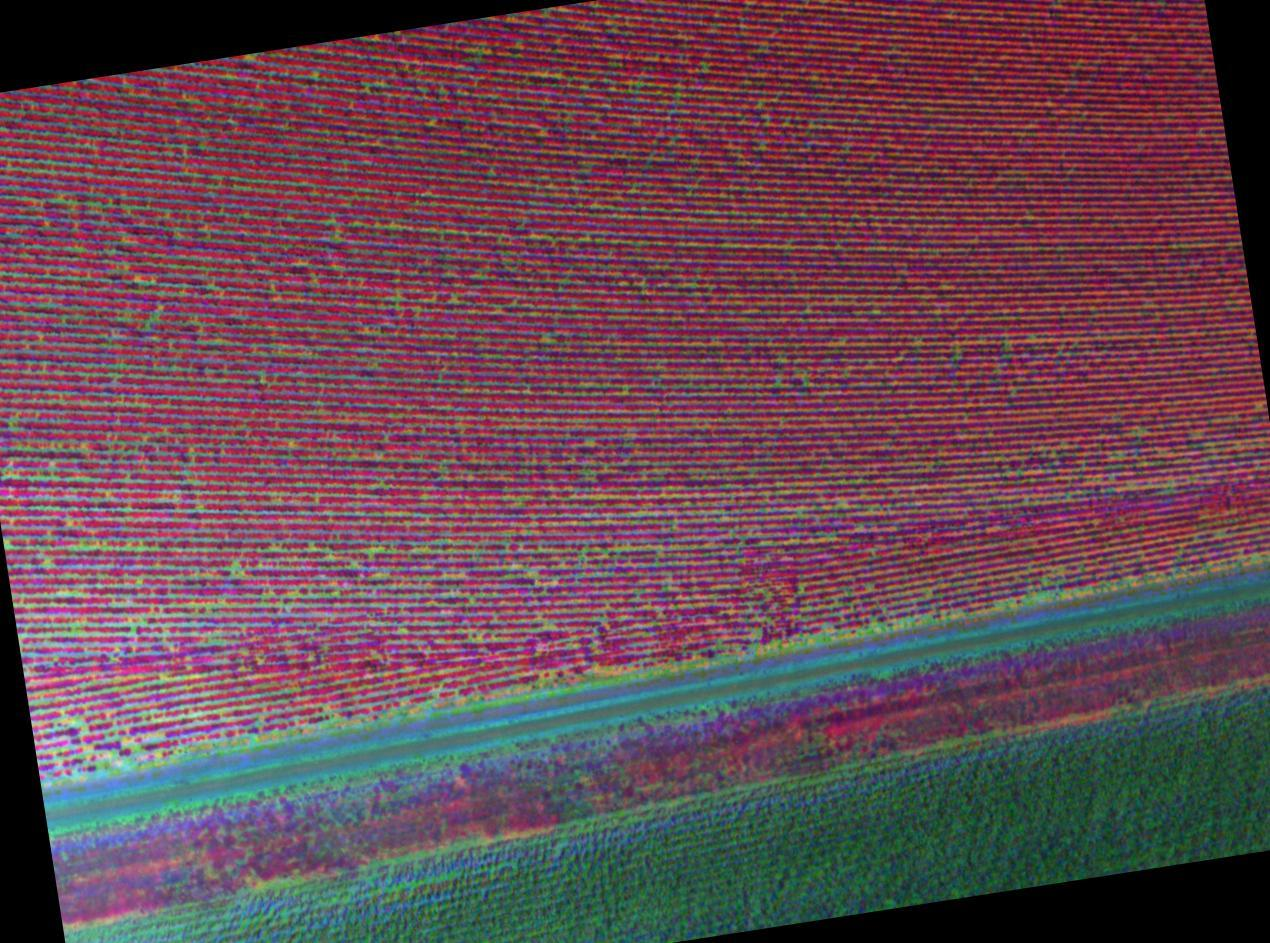dc: (585, 437, 593, 442), (528, 569, 537, 573), (233, 564, 239, 569), (545, 625, 550, 629), (1118, 455, 1124, 458), (1044, 579, 1048, 583), (868, 584, 871, 587), (799, 591, 803, 593)
